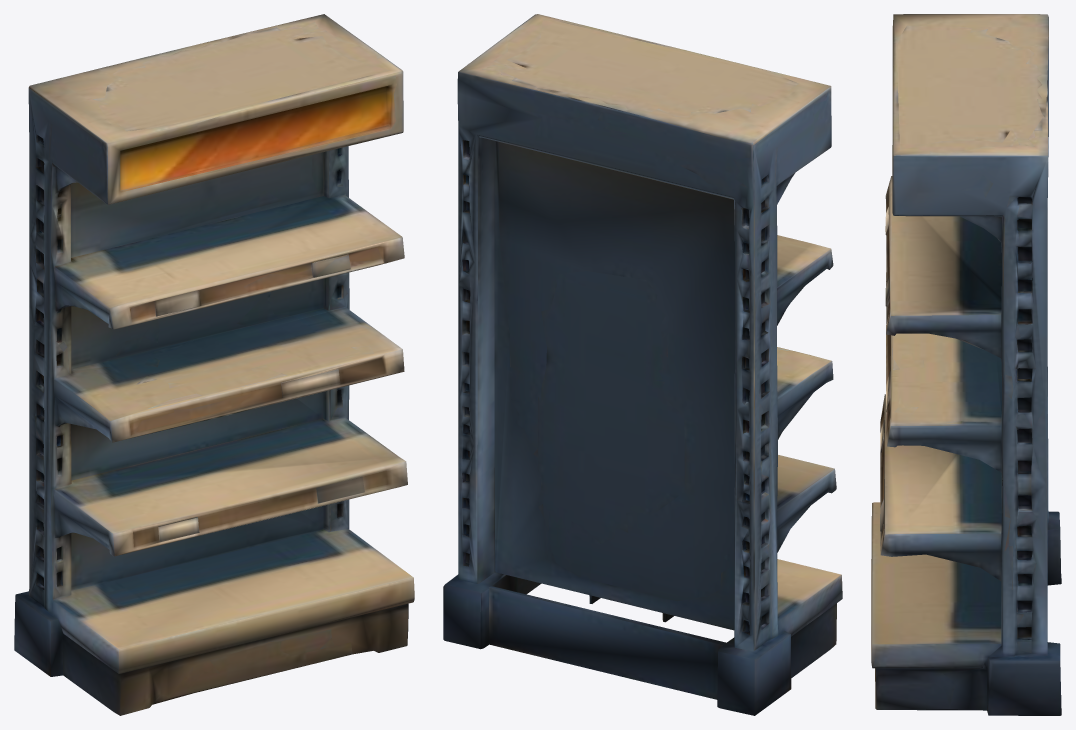
The model's file is huojia-1.glb.
3 renders of one model, left to right at view 1: azimuth 30°, elevation 25°; view 2: azimuth 150°, elevation 25°; view 3: azimuth 270°, elevation 25°, orthographic.
Visible parts, largest first — view 1: node_0; view 2: node_0; view 3: node_0.
Part boxes in pixels (box(x1,y1,x2,y2)): node_0: box(14, 14, 414, 715); node_0: box(443, 14, 842, 715); node_0: box(871, 14, 1061, 715).
Bounding box in the file's own units: 0.5822 × 1.01 × 0.312.
1 material, 1 textured.
